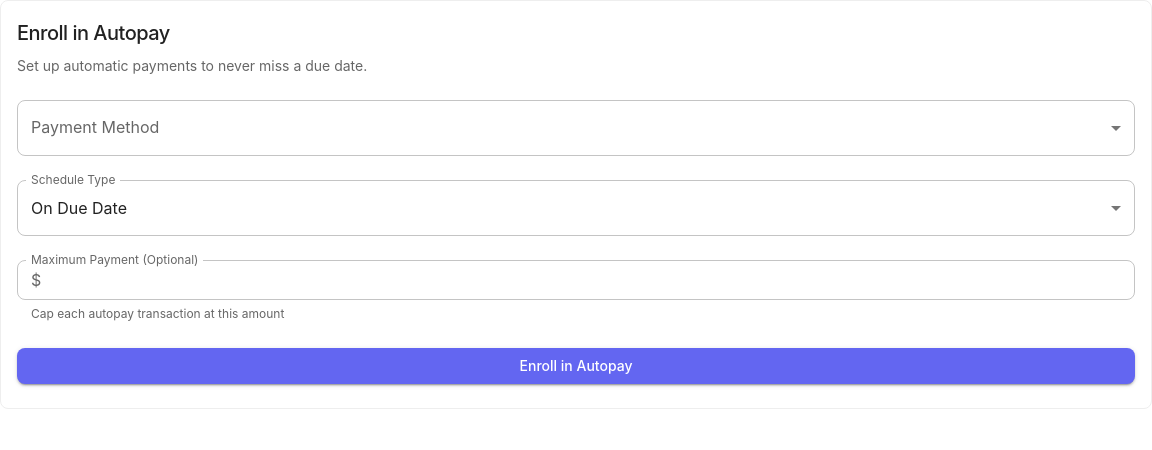
it: AutopayEnrollment › form validation › requires payment method selection
Try to submit without selecting payment method
Click the button "Enroll in Autopay". click: coordinates (576, 366)
box: [17, 348, 1135, 384]
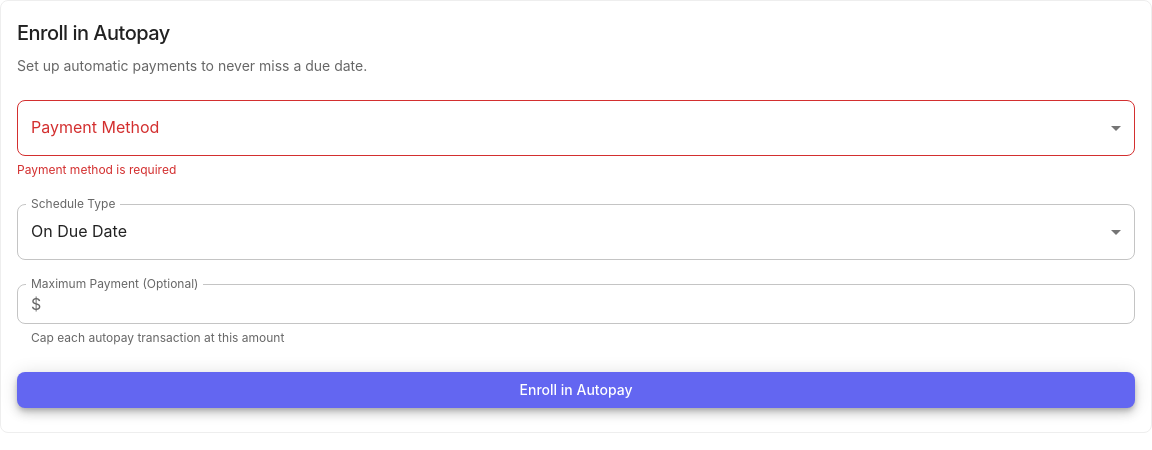
Expected: the text "Payment method is required" is shown, [17, 162, 176, 177]
